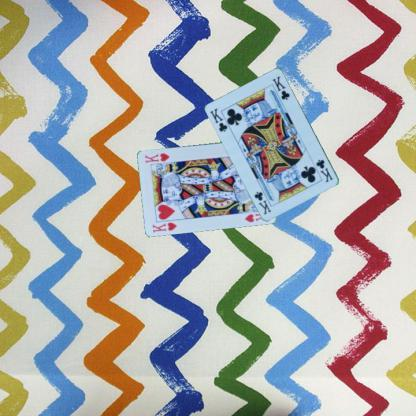Kc: (207, 106, 229, 133), (314, 156, 334, 184)
Kh: (150, 219, 178, 234)
